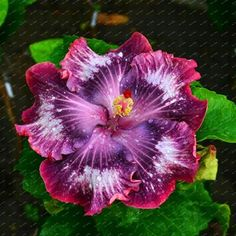Hibiscus: (20, 40, 209, 208)
